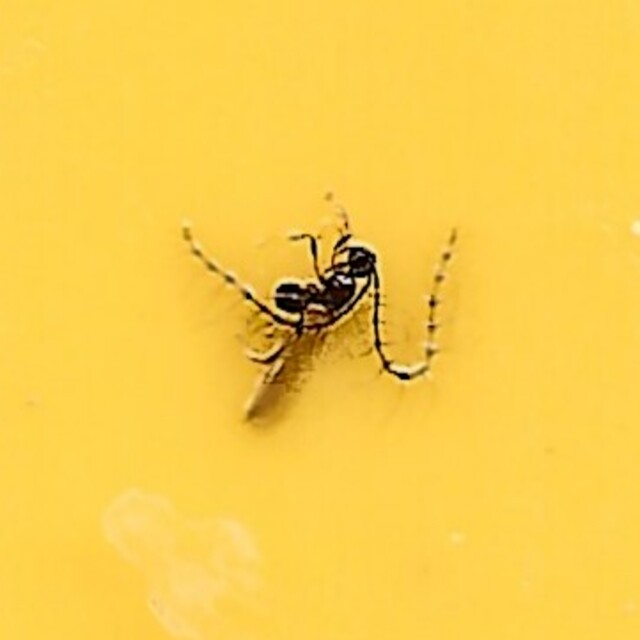Hymenoptera: (177, 217, 463, 423)
